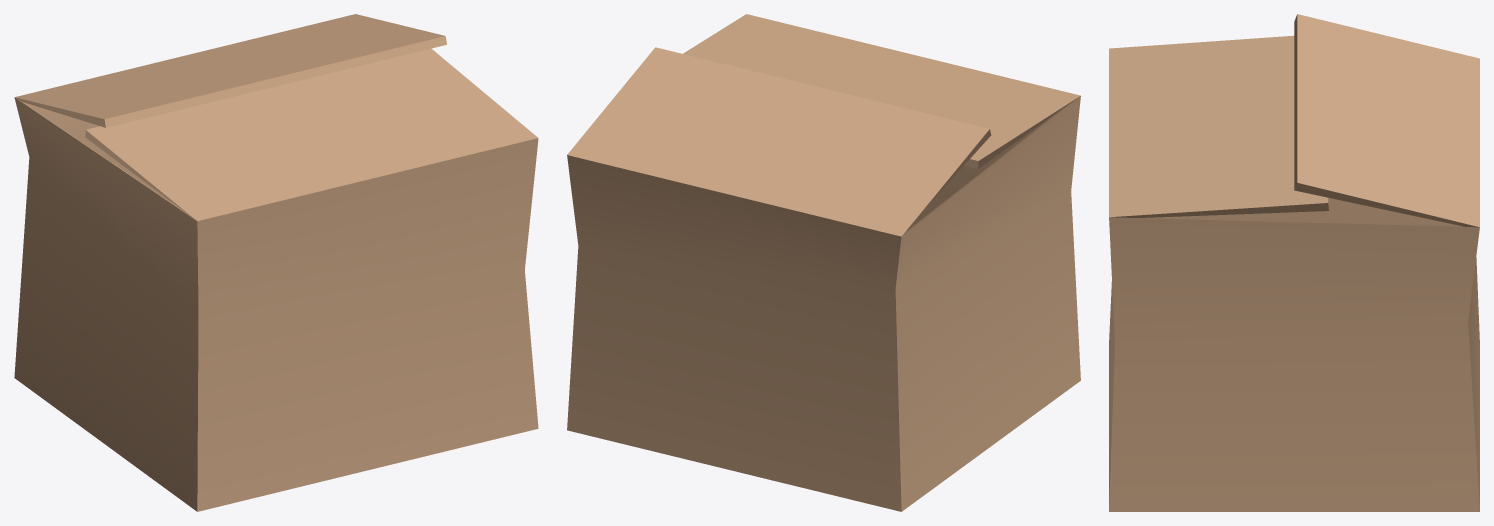
3 views of the same model, side by side, from view 1: azimuth 30°, elevation 25°; view 2: azimuth 150°, elevation 25°; view 3: azimuth 270°, elevation 25° (orthographic). The views are drawn at different scales.
Parts seen in each view (by area): view 1: Cube; view 2: Cube; view 3: Cube.
Boxes of the visible parts, <box> form: Cube: <box>14,14,538,511</box>; Cube: <box>567,14,1080,511</box>; Cube: <box>1109,14,1479,511</box>.
Size of the model in its own units: 49.46 by 44.52 by 45.47.
